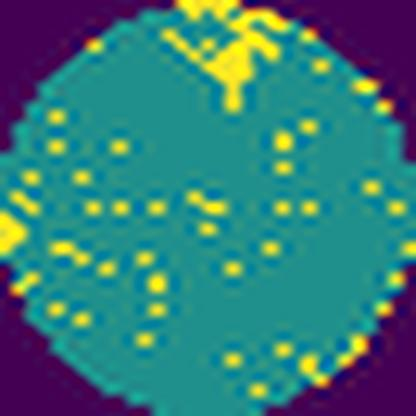Loc: (163, 0, 297, 114)
